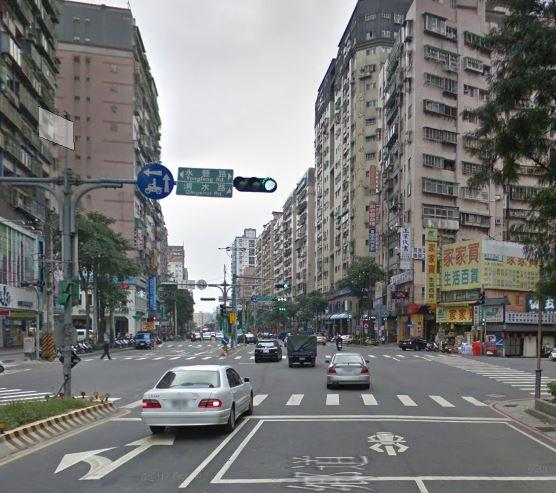green_traffic_light: (234, 173, 278, 193)
